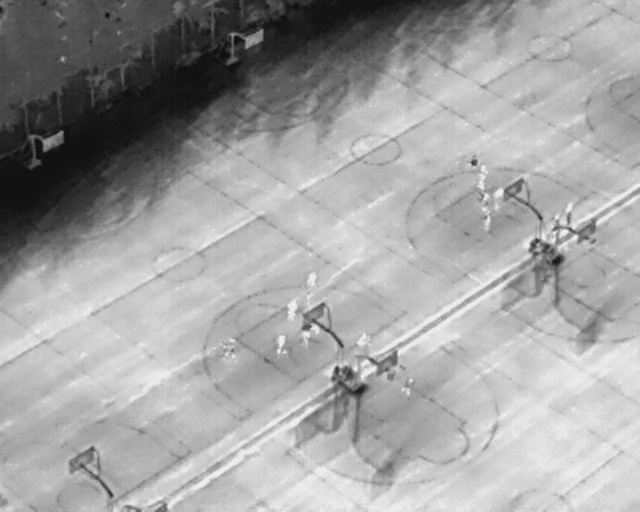Person: (399, 373, 418, 398), (303, 320, 313, 347), (276, 332, 287, 355), (495, 186, 505, 211), (480, 162, 489, 187), (287, 296, 296, 321), (308, 268, 318, 290), (482, 208, 491, 229), (471, 152, 478, 170)
